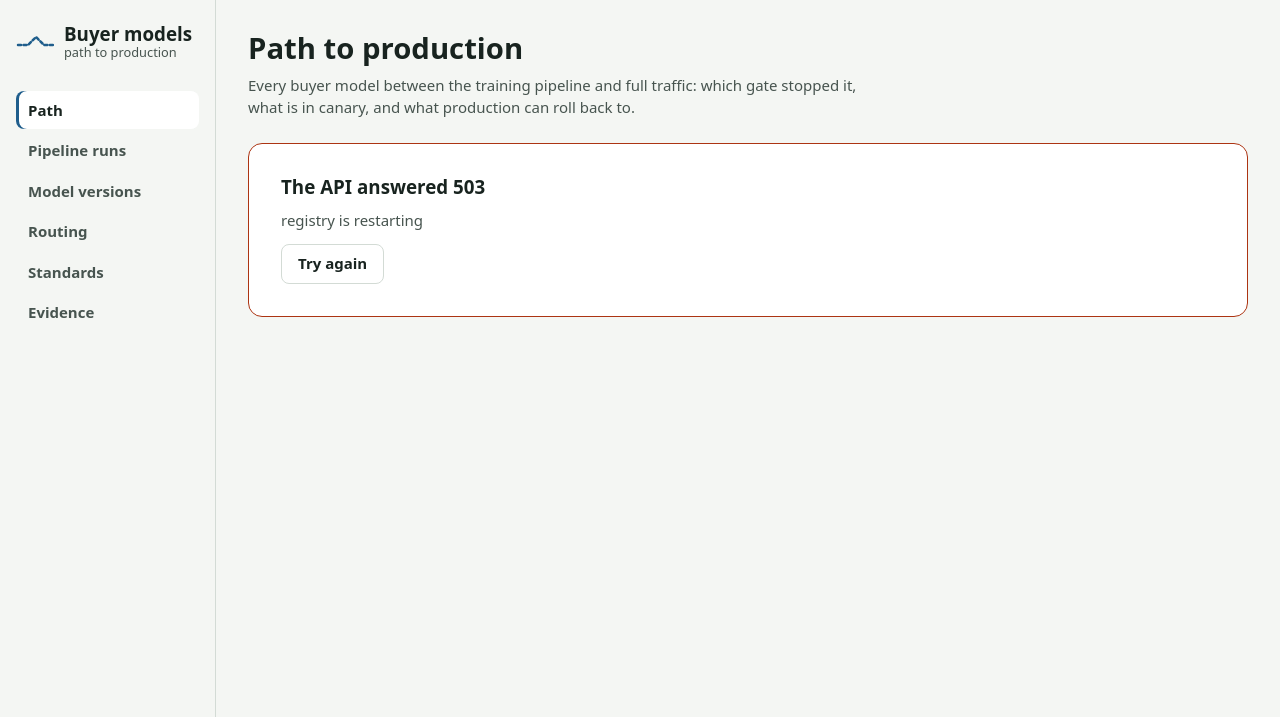
it: the path page › says what failed and retries
Expected: the message shows "registry is restarting", [281,210,423,230]
Click the button "Try again". click: (333, 264)
box: [281,244,384,284]
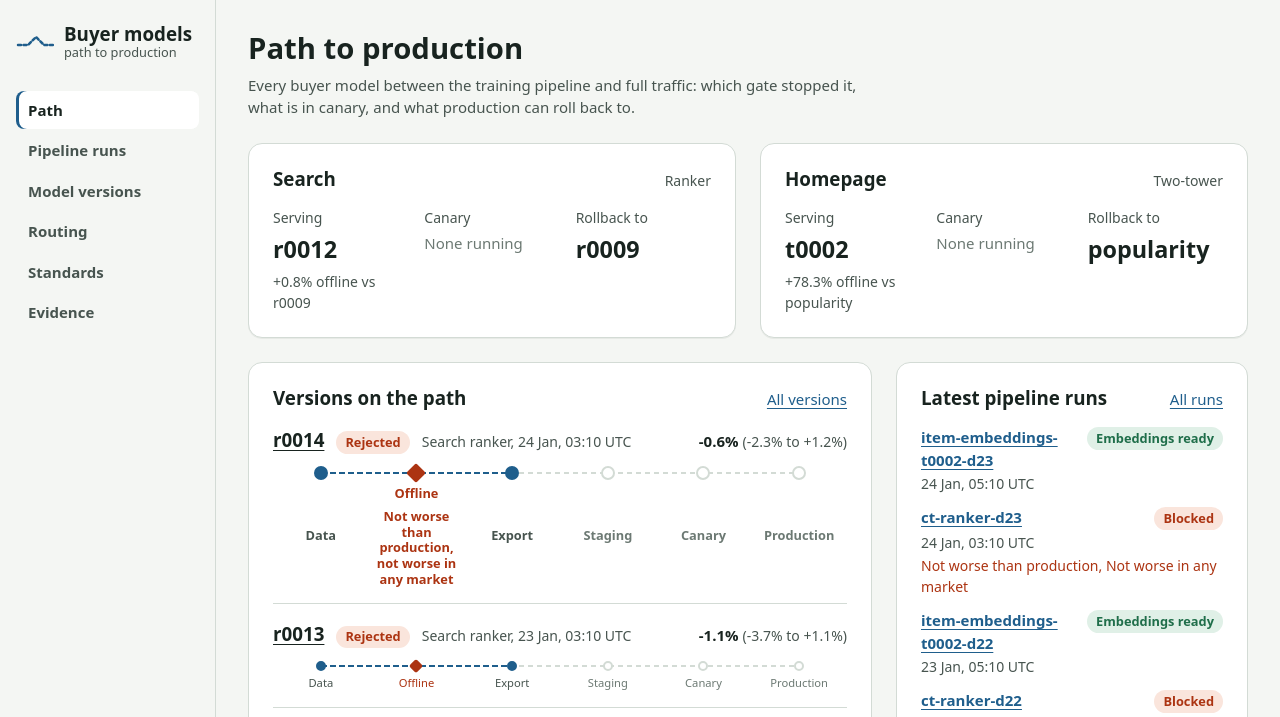
Result: the heading "Search" is shown at [273,168,336,189]
